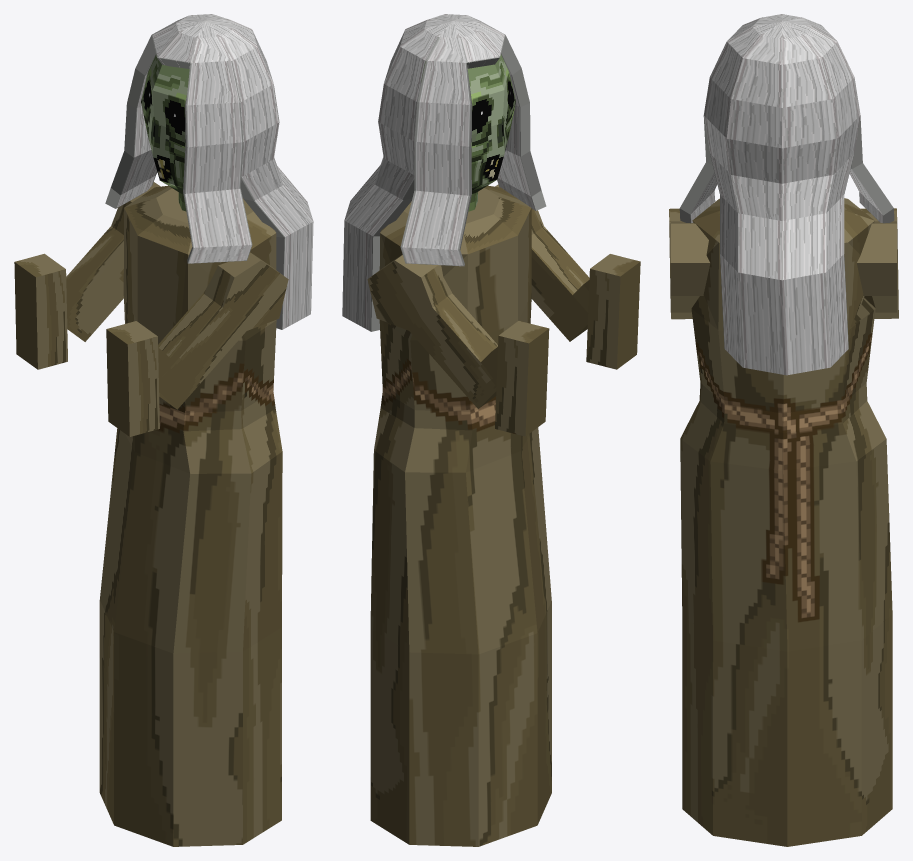
File: CandyWitch.fbx
The picture shows the model from 3 angles, left to right: view 1: azimuth 30°, elevation 25°; view 2: azimuth 150°, elevation 25°; view 3: azimuth 270°, elevation 25°; orthographic projection.
Visible parts, largest first — view 1: Body, hair, sleeve2, sp2, sp2.001, sleeve1, Sphere; view 2: Body, hair, sleeve1, sp2.001, sp2, sleeve2, Sphere; view 3: Body, hair, sleeve2, sleeve1.
Part boxes in pixels (x1,y1,x2,y2): Body: (99, 186, 282, 846); hair: (105, 14, 313, 329); sleeve2: (158, 252, 288, 409); sp2: (14, 253, 67, 369); sp2.001: (106, 321, 159, 436); sleeve1: (66, 182, 160, 341); Sphere: (141, 54, 189, 193); Body: (370, 185, 551, 846); hair: (342, 14, 546, 331); sleeve1: (367, 255, 497, 408); sp2.001: (586, 254, 640, 369); sp2: (495, 321, 549, 436); sleeve2: (495, 184, 589, 341); Sphere: (421, 54, 515, 193); Body: (680, 198, 892, 846); hair: (679, 14, 894, 375); sleeve2: (670, 221, 710, 312); sleeve1: (857, 221, 896, 312).
Bounding box in the file's own units: 143 × 455 × 120.
